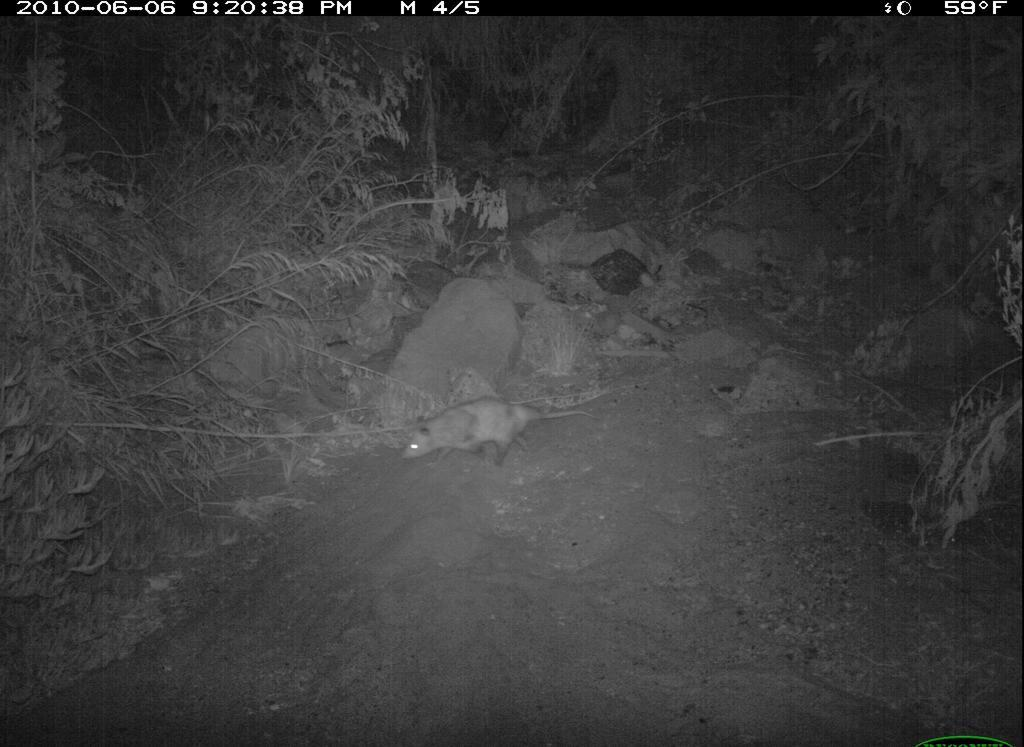opossum: (397, 395, 603, 477)
